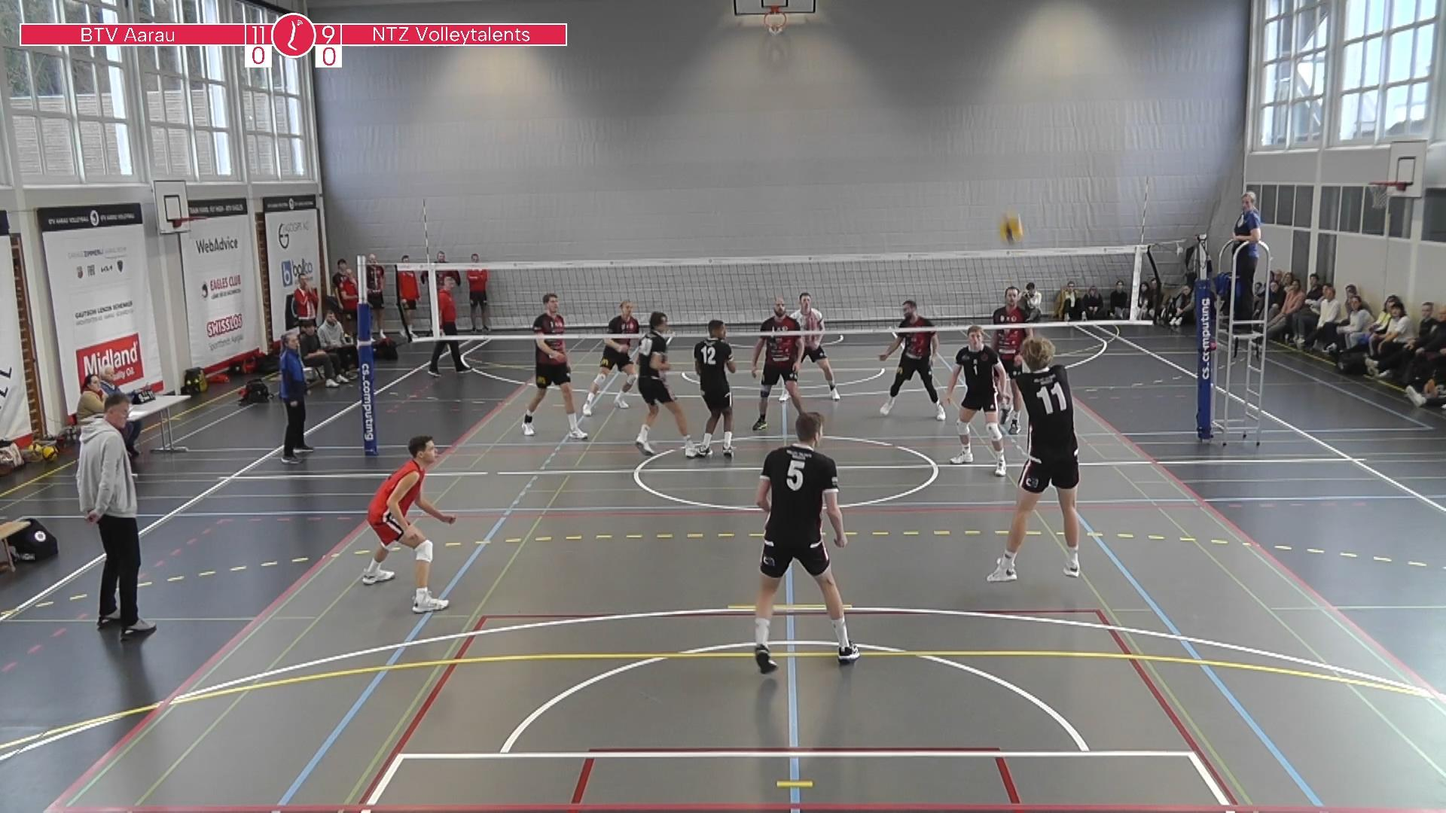Player: (755, 412, 859, 673), (362, 436, 456, 613), (944, 325, 1008, 477), (523, 293, 587, 439), (635, 312, 698, 458), (879, 300, 945, 421), (751, 297, 804, 431), (583, 300, 639, 416), (694, 319, 736, 457), (791, 293, 840, 400), (993, 327, 1033, 434)
Receive: (984, 327, 1115, 578)
ball: (998, 212, 1024, 248)
